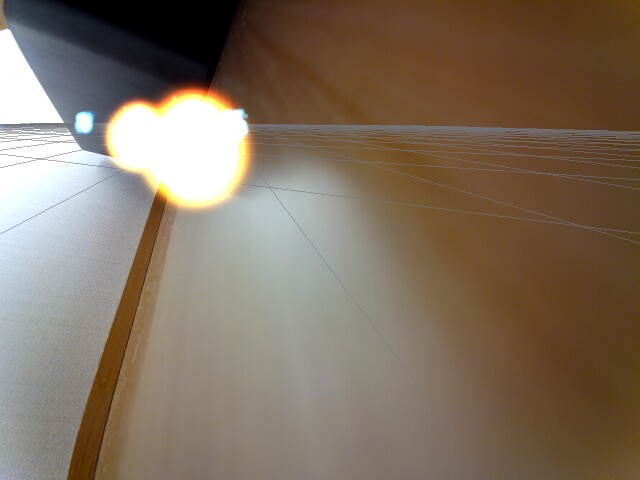firebig: (100, 71, 262, 218)
